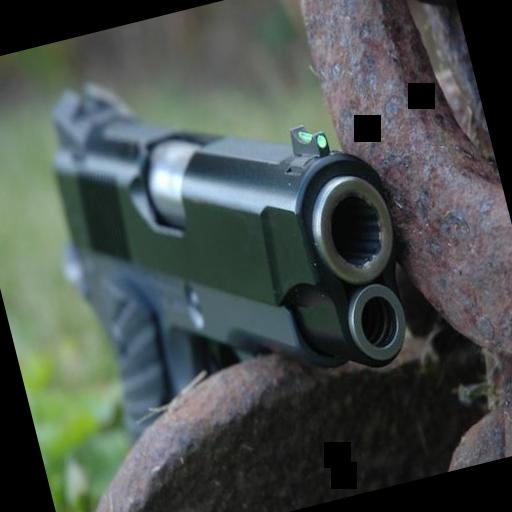Handgun: (20, 14, 425, 443)
